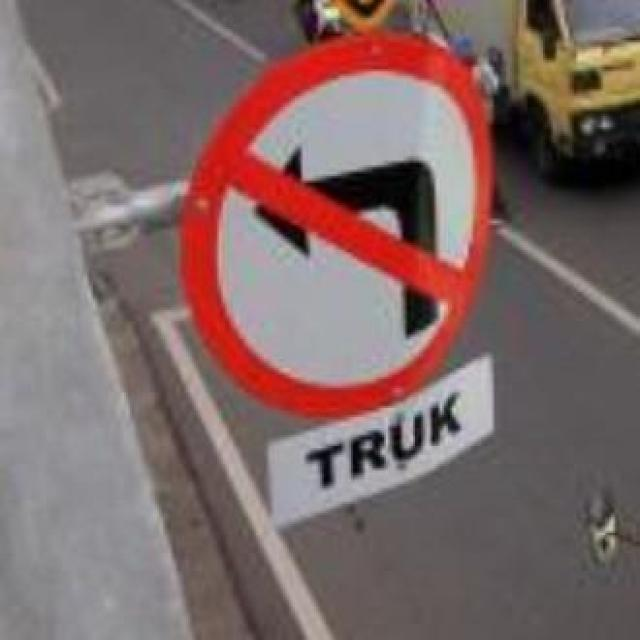traffic sign: (177, 38, 495, 412)
